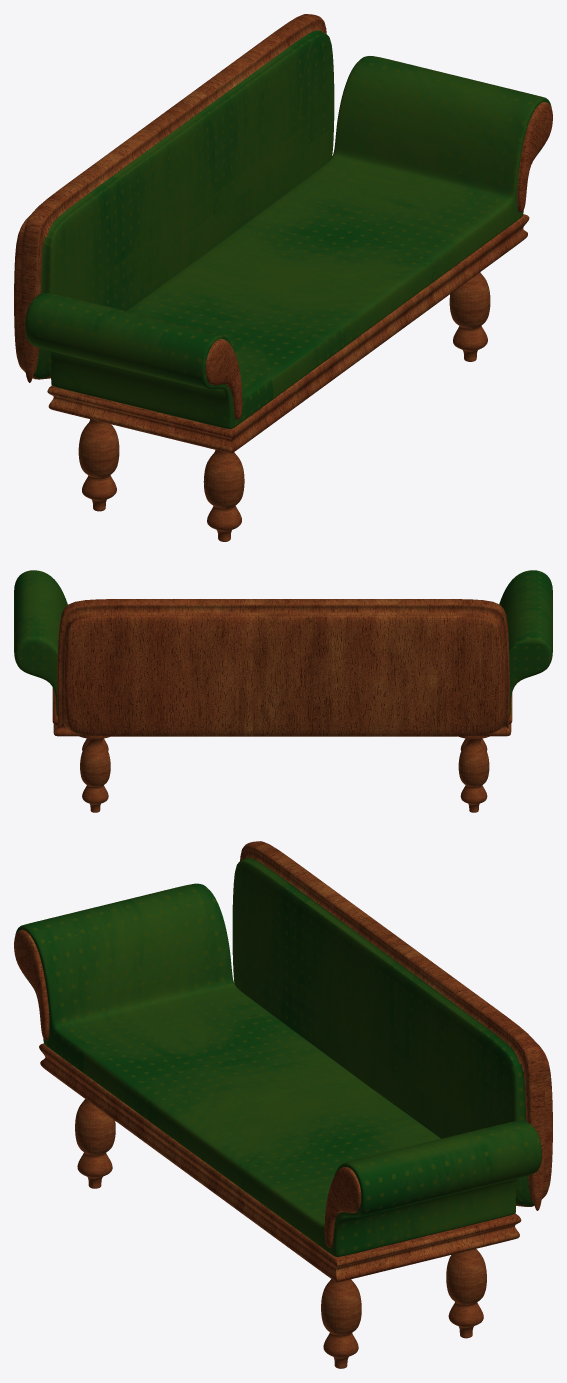
Rendered from kanape.glb.
3 renders of one model, top to bottom at view 1: azimuth 30°, elevation 25°; view 2: azimuth 150°, elevation 25°; view 3: azimuth 270°, elevation 25°, orthographic. The views are drawn at different scales.
Parts seen in each view (by area): view 1: kanape; view 2: kanape; view 3: kanape.
Boxes of the visible parts, left/top/right/bottom form: kanape: left=14, top=14, right=552, bottom=541; kanape: left=14, top=570, right=552, bottom=812; kanape: left=14, top=841, right=552, bottom=1368.
Size of the model in its own units: 2.54 by 1.18 by 1.94.
2 materials, 2 textured.
